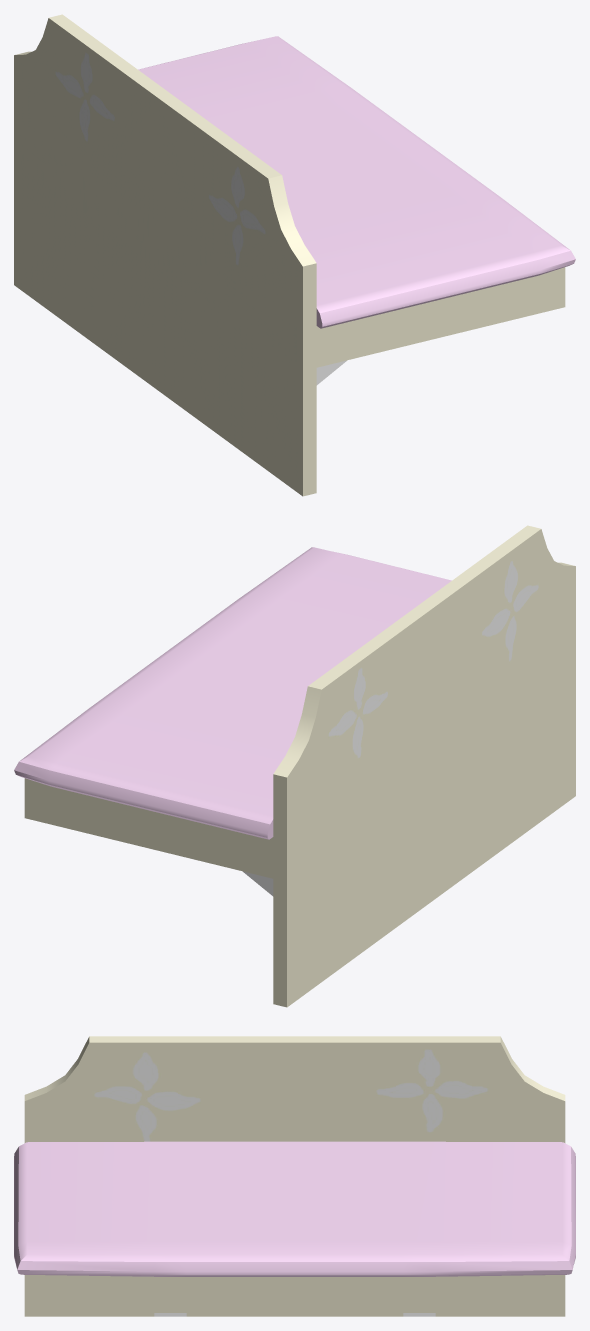
The model's file is catPlatform.fbx.
3 renders of one model, top to bottom at view 1: azimuth 30°, elevation 25°; view 2: azimuth 150°, elevation 25°; view 3: azimuth 270°, elevation 25°, orthographic. The views are drawn at different scales.
Visible parts, largest first — view 1: catPlatform; view 2: catPlatform; view 3: catPlatform.
Part boxes in pixels (x1=…): catPlatform: x1=14, y1=14, x2=575, y2=496; catPlatform: x1=14, y1=525, x2=575, y2=1007; catPlatform: x1=14, y1=1036, x2=575, y2=1316.
Bounding box in the file's own units: 11.13 × 11.43 × 21.25.
1 material, 1 textured.
